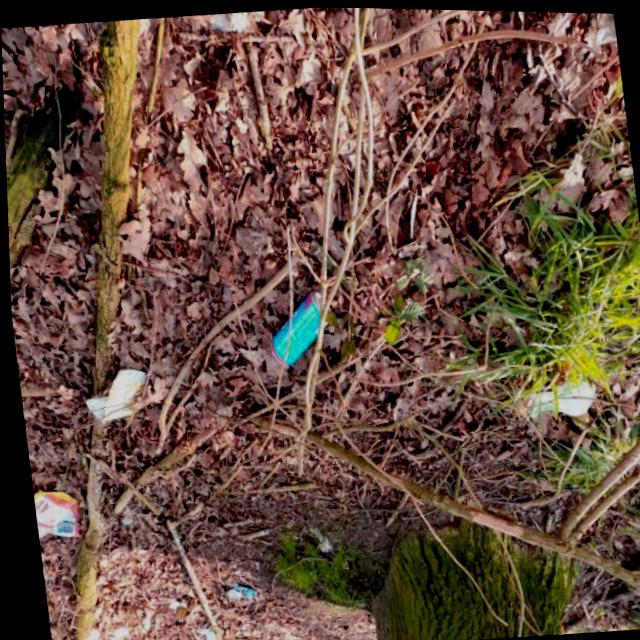Can-Metal: (260, 286, 333, 366), (219, 581, 252, 602)
Paper: (511, 372, 595, 419), (303, 523, 328, 551), (63, 625, 96, 640), (188, 624, 213, 640), (102, 622, 123, 640)
Plastic: (76, 364, 147, 426), (28, 484, 78, 542)
